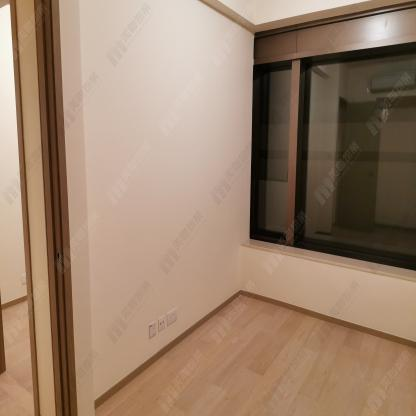Windowsill: (241, 0, 416, 280)
